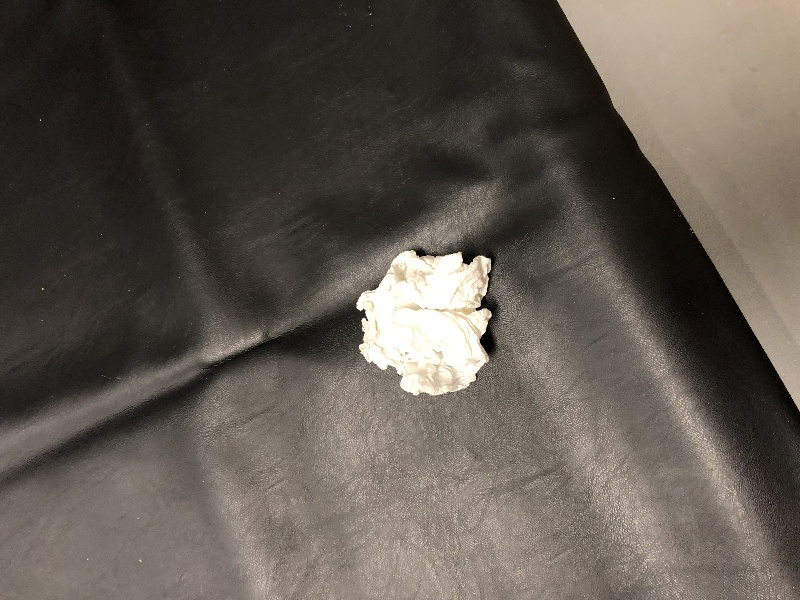paper: (341, 240, 512, 406)
